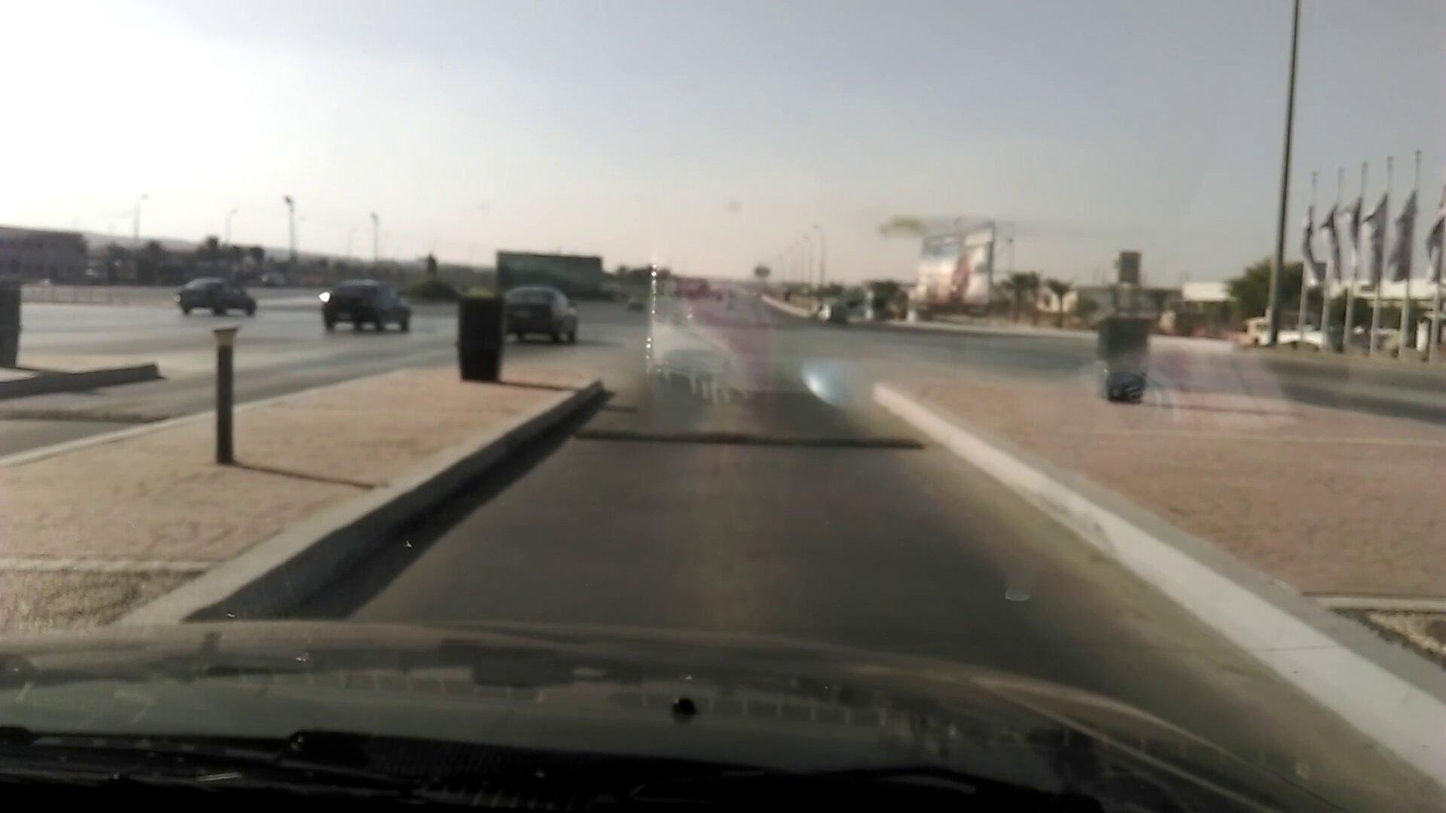Bump: (599, 427, 930, 461)
